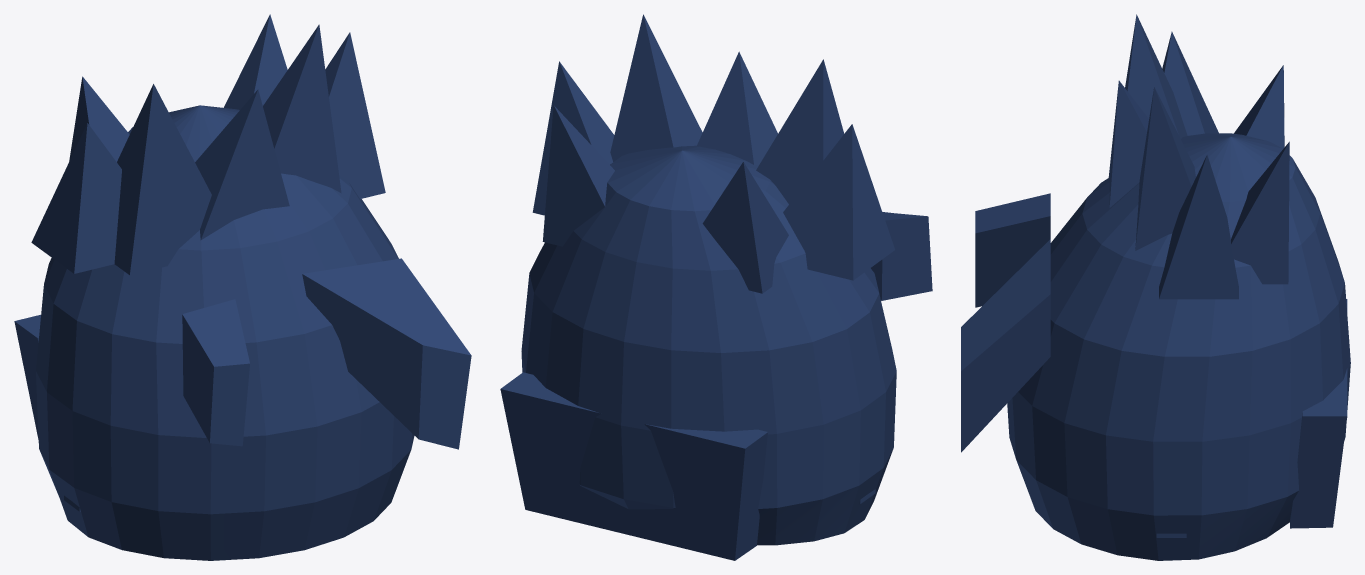
The model's file is hair_girl_choppy_pixie_01.glb.
3 views of the same model, side by side, from view 1: azimuth 30°, elevation 25°; view 2: azimuth 150°, elevation 25°; view 3: azimuth 270°, elevation 25° (orthographic). The views are drawn at different scales.
Parts seen in each view (by area): view 1: ChoppyPixie_Cap, ChoppyPixie_Diagonal_Front, ChoppyPixie_Spike_LC, ChoppyPixie_Spike_L, ChoppyPixie_Short_Front, ChoppyPixie_Spike_C, ChoppyPixie_Spike_RC, ChoppyPixie_Spike_R, ChoppyPixie_Spike_BackR, ChoppyPixie_Spike_BackL, ChoppyPixie_Nape; view 2: ChoppyPixie_Cap, ChoppyPixie_Nape, ChoppyPixie_Spike_L, ChoppyPixie_Spike_RC, ChoppyPixie_Spike_BackL, ChoppyPixie_Spike_BackR, ChoppyPixie_Spike_LC, ChoppyPixie_Spike_C, ChoppyPixie_Short_Front, ChoppyPixie_Spike_R; view 3: ChoppyPixie_Cap, ChoppyPixie_Diagonal_Front, ChoppyPixie_Spike_R, ChoppyPixie_Nape, ChoppyPixie_Spike_RC, ChoppyPixie_Short_Front, ChoppyPixie_Spike_BackR, ChoppyPixie_Spike_C, ChoppyPixie_Spike_LC, ChoppyPixie_Spike_L, ChoppyPixie_Spike_BackL.
Part boxes in pixels (x1,y1,x2,y2): ChoppyPixie_Cap: (36,105,414,560); ChoppyPixie_Diagonal_Front: (302,258,471,449); ChoppyPixie_Spike_LC: (114,84,211,275); ChoppyPixie_Spike_L: (31,123,121,273); ChoppyPixie_Short_Front: (182,299,249,446); ChoppyPixie_Spike_C: (195,89,289,240); ChoppyPixie_Spike_RC: (263,24,341,193); ChoppyPixie_Spike_R: (325,32,385,198); ChoppyPixie_Spike_BackR: (223,14,287,109); ChoppyPixie_Spike_BackL: (69,76,129,161); ChoppyPixie_Nape: (14,314,40,439); ChoppyPixie_Cap: (521,145,896,545); ChoppyPixie_Nape: (500,372,767,560); ChoppyPixie_Spike_L: (783,124,894,280); ChoppyPixie_Spike_RC: (610,14,702,161); ChoppyPixie_Spike_BackL: (702,162,788,293); ChoppyPixie_Spike_BackR: (542,105,614,246); ChoppyPixie_Spike_LC: (756,59,844,204); ChoppyPixie_Spike_C: (697,51,777,165); ChoppyPixie_Short_Front: (871,212,932,300); ChoppyPixie_Spike_R: (532,61,614,215); ChoppyPixie_Cap: (1007,133,1350,560); ChoppyPixie_Diagonal_Front: (961,239,1050,452); ChoppyPixie_Spike_R: (1159,155,1238,299); ChoppyPixie_Nape: (1290,299,1347,528); ChoppyPixie_Spike_RC: (1135,87,1195,250); ChoppyPixie_Short_Front: (975,193,1050,307); ChoppyPixie_Spike_BackR: (1231,141,1289,284); ChoppyPixie_Spike_C: (1108,80,1148,207); ChoppyPixie_Spike_LC: (1125,14,1187,138); ChoppyPixie_Spike_L: (1162,31,1218,135); ChoppyPixie_Spike_BackL: (1234,65,1284,148).
Bounding box in the file's own units: 0.3204 × 0.414 × 0.331.
